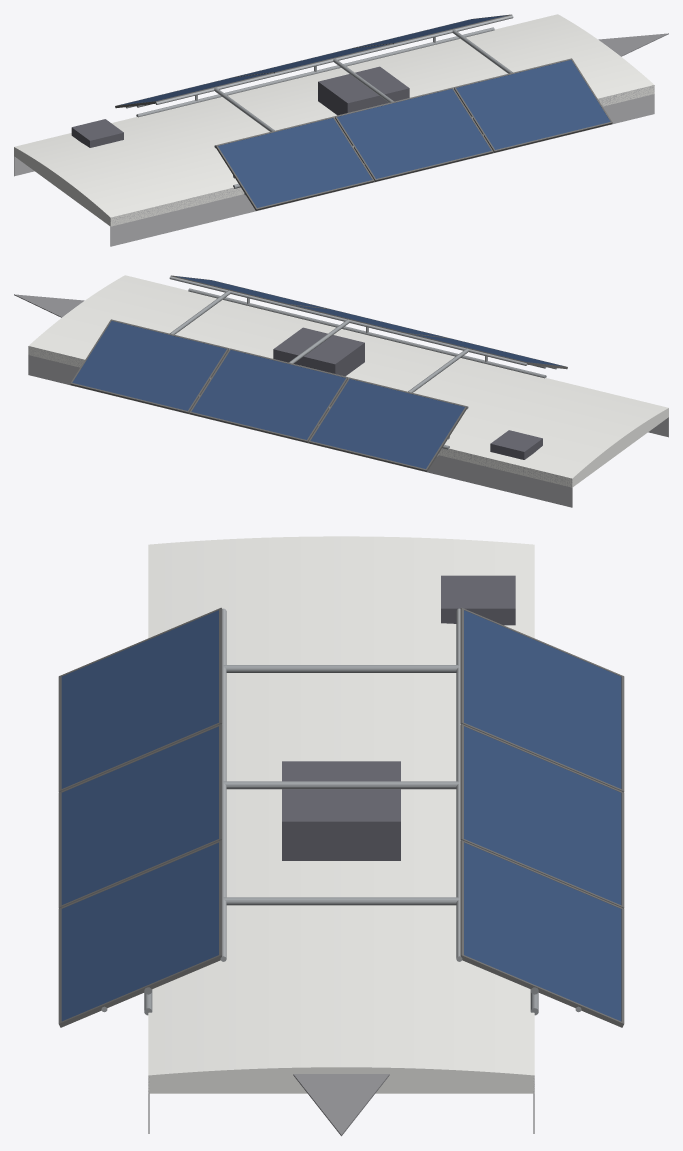
File: s280bhss-solar.glb
The picture shows the model from 3 angles, top to bottom: view 1: azimuth 30°, elevation 25°; view 2: azimuth 150°, elevation 25°; view 3: azimuth 270°, elevation 25°; orthographic projection. The views are drawn at different scales.
Parts seen in each view (by area): view 1: roof, cells, walls, frames, ac, rails, webs, hitch; view 2: roof, cells, walls, frames, ac, rails, webs, hitch; view 3: roof, cells, ac, frames, rails, webs, hitch.
Boxes of the visible parts, x1,y1,x2,y2 form: roof: (14, 14, 654, 226); cells: (119, 15, 610, 207); walls: (14, 85, 654, 246); frames: (115, 14, 612, 210); ac: (71, 66, 409, 147); rails: (136, 27, 512, 188); webs: (126, 15, 549, 195); hitch: (598, 33, 668, 56); roof: (28, 275, 668, 487); cells: (72, 276, 563, 468); walls: (28, 346, 668, 507); frames: (70, 275, 567, 471); ac: (273, 327, 542, 459); rails: (170, 288, 546, 449); webs: (133, 276, 556, 456); hitch: (14, 294, 84, 317); roof: (148, 536, 534, 1093); cells: (61, 610, 621, 1021); ac: (282, 575, 515, 860); frames: (58, 607, 624, 1027); rails: (144, 665, 538, 1015); webs: (101, 608, 581, 1012); hitch: (293, 1074, 389, 1136).
Bounding box in the file's own units: 348 × 31.8 × 141.
